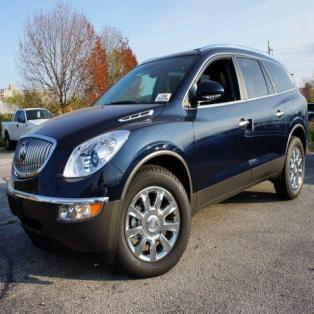Auto: (6, 44, 307, 277)
